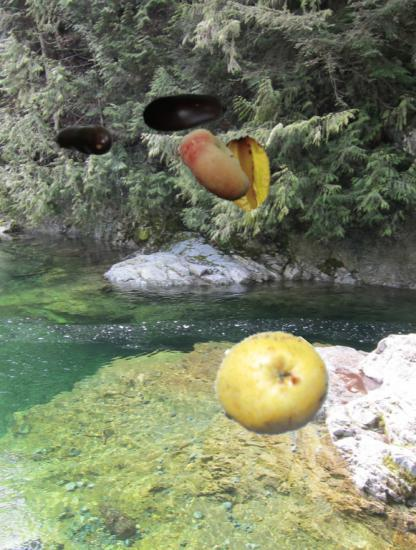Carambula: (208, 136, 284, 212)
Eggplant: (141, 68, 229, 156), (51, 108, 115, 172)
Peach: (172, 124, 258, 210)
Pear: (215, 328, 328, 441)
